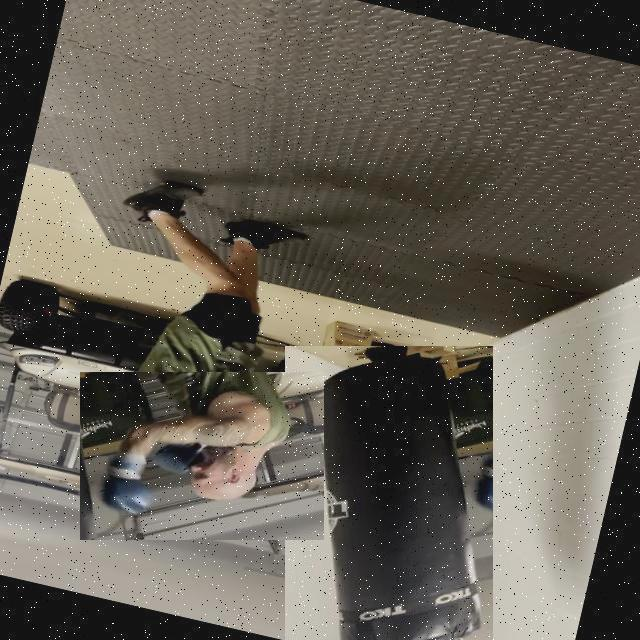punch: (80, 372, 324, 540)
